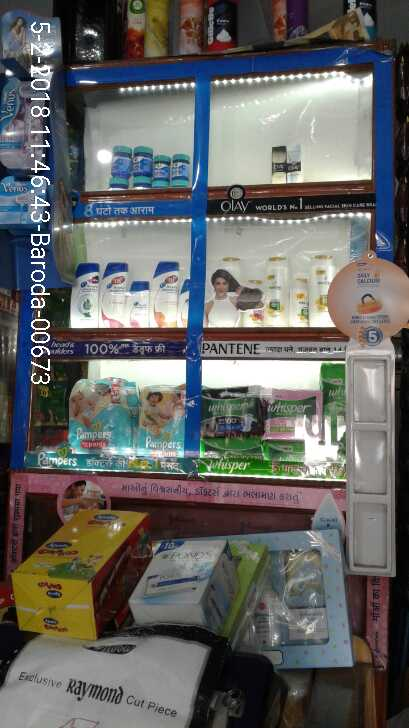beauty: (152, 259, 186, 326), (97, 261, 130, 326), (71, 263, 100, 332), (312, 249, 335, 325), (266, 255, 286, 325), (127, 281, 154, 323), (287, 275, 307, 327), (284, 144, 309, 180), (268, 143, 287, 186)
pharmacy: (70, 378, 130, 455), (130, 386, 185, 458), (204, 384, 260, 438), (262, 390, 318, 440), (110, 142, 131, 179), (148, 153, 170, 181), (131, 144, 151, 174), (171, 152, 187, 175)
